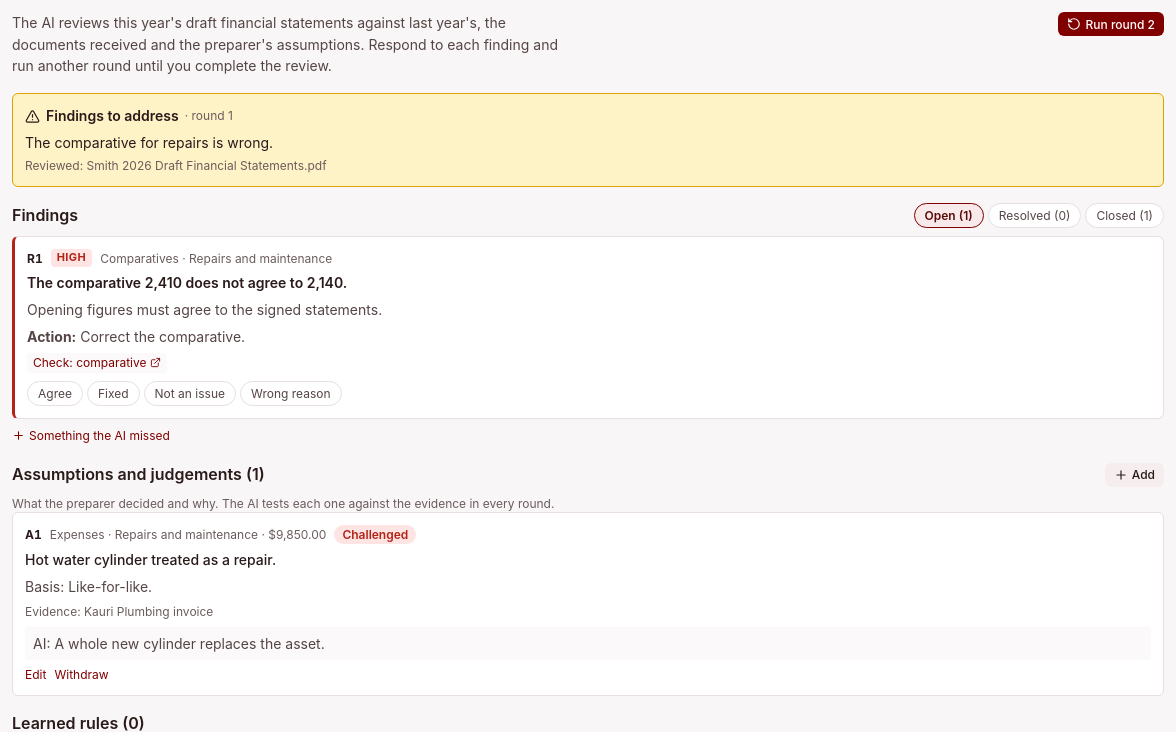
Scenario: ReviewPanel › shows the round, the open findings with their evidence, and the AI verdict on each assumption
The width and height of the screenshot is (1176, 732).
Expected: the text "Findings to address" is shown, [46,107,179,124]
Expected: the text "The comparative for repairs is wrong." is shown, [25,134,273,151]
Click the button "Closed (1)".
click(1125, 216)  # box [1085,203,1164,228]
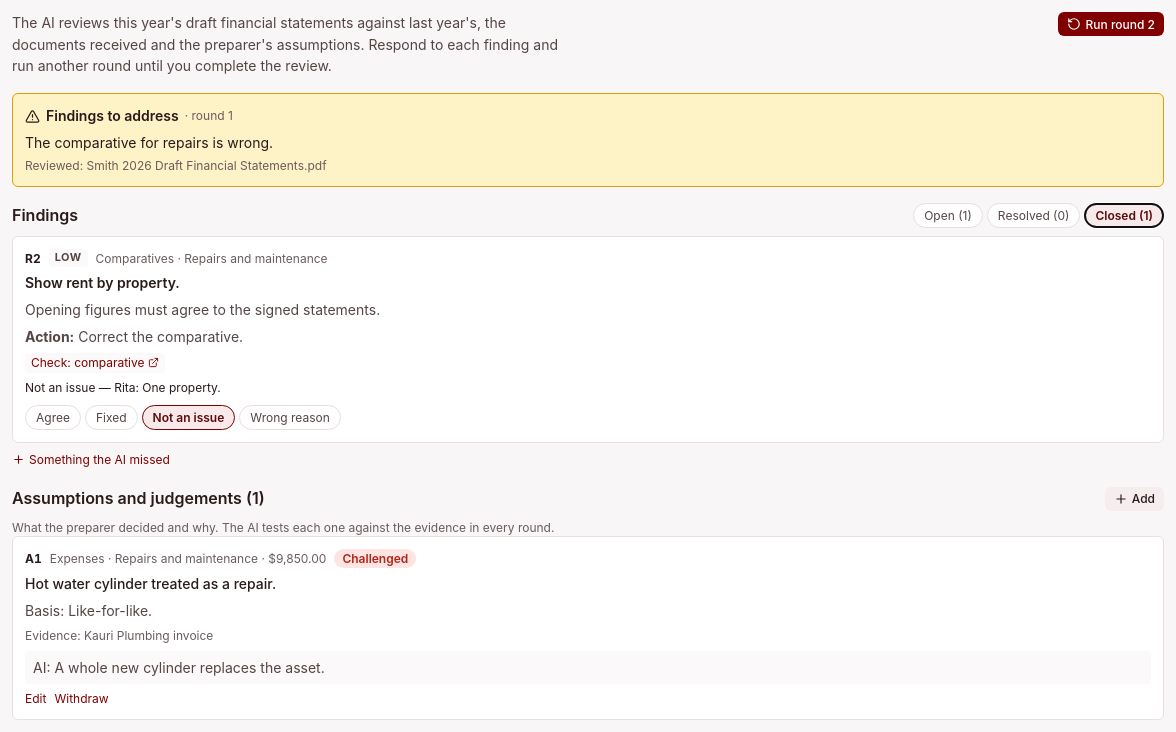
Expected: the text "Challenged" is shown, [334,549,416,568]
Expected: the heading "Show rent by property." is shown, [25,274,180,291]
Expected: the text "Not an issue — Rita: One property." is shown, [25,380,221,395]
